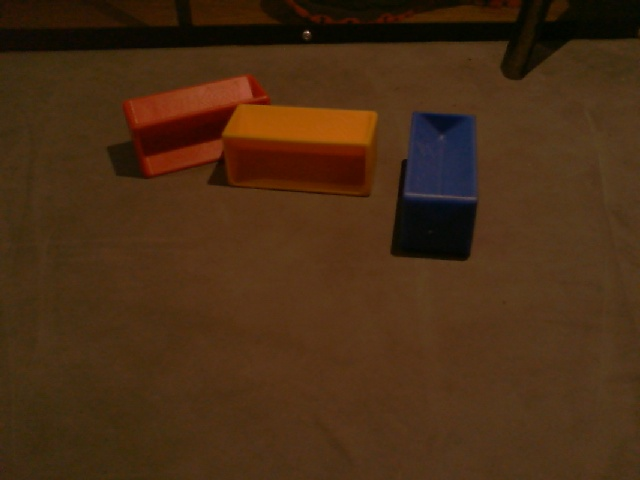BlueSample: (398, 111, 478, 261)
RedSample: (117, 72, 270, 178)
YellowSample: (220, 100, 381, 197)
